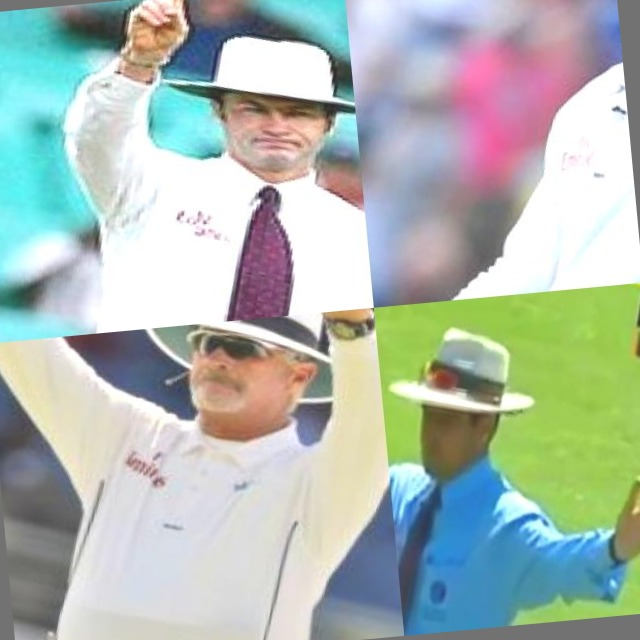No_Action: (343, 0, 640, 308)
Out: (0, 0, 374, 344)
Six: (0, 308, 404, 640)
Wide: (374, 283, 640, 636)
